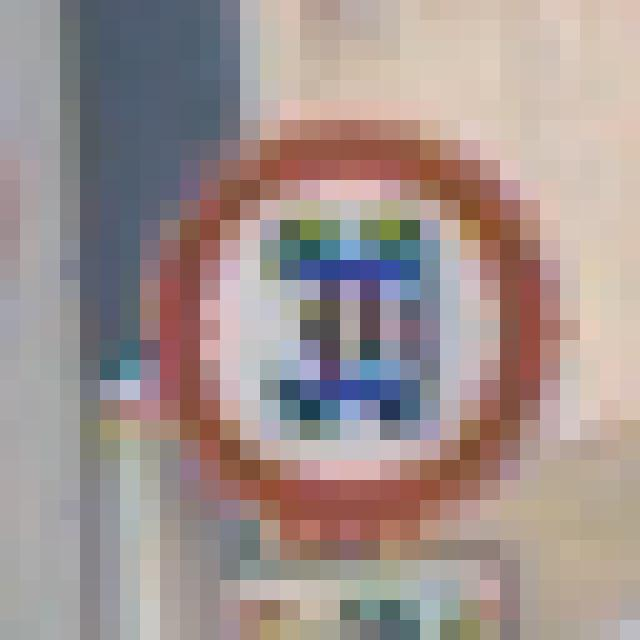Speed Limit -30-: (110, 90, 510, 510)
